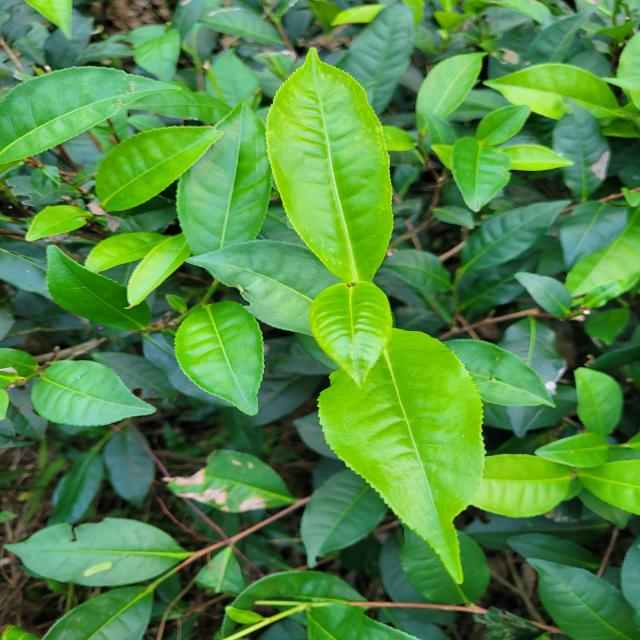Catagory A(1-2 days): (307, 260, 425, 394)
